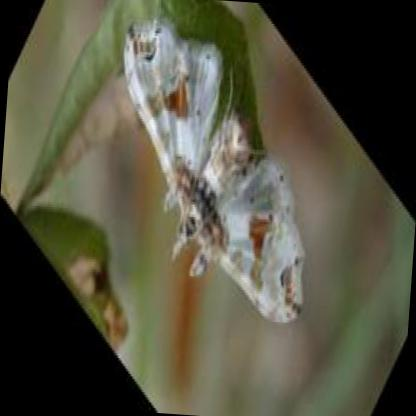leucinodes: (123, 20, 306, 323)
